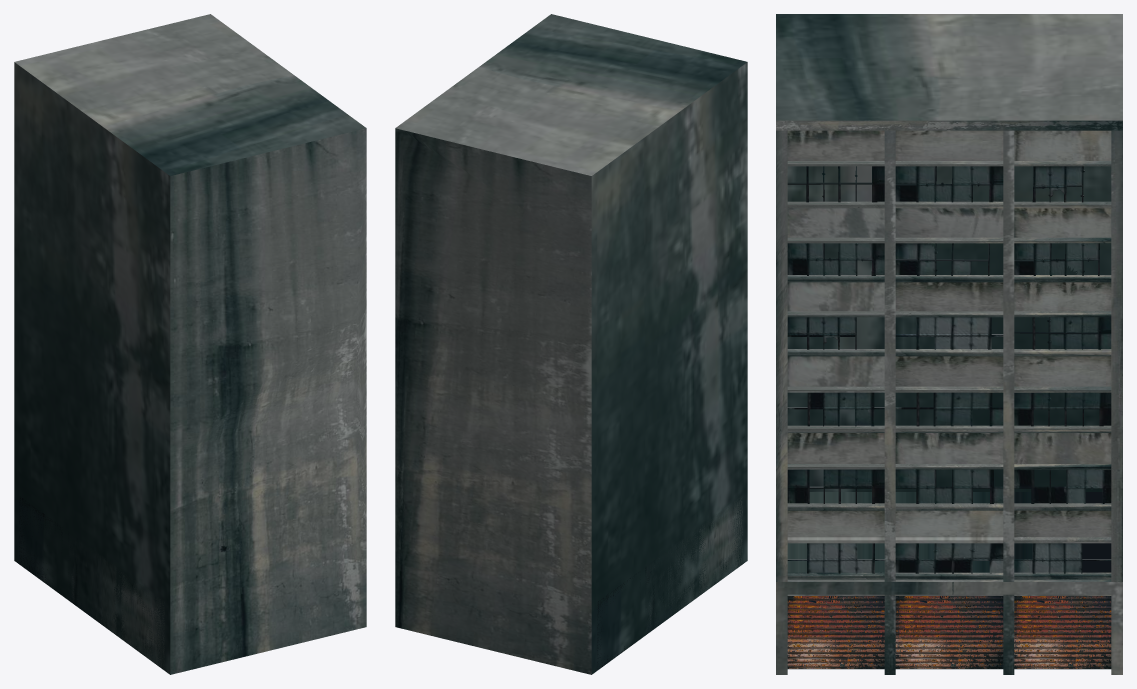
The model's file is abandoned_building.glb.
3 renders of one model, left to right at view 1: azimuth 30°, elevation 25°; view 2: azimuth 150°, elevation 25°; view 3: azimuth 270°, elevation 25°, orthographic. The views are drawn at different scales.
Parts seen in each view (by area): view 1: Cube_Material.002_0; view 2: Cube_Material.002_0; view 3: Cube_Material.002_0, 1_Door1_0.
Boxes of the visible parts, <box> form: Cube_Material.002_0: <box>14,14,366,674</box>; Cube_Material.002_0: <box>395,14,747,674</box>; Cube_Material.002_0: <box>776,14,1122,674</box>; 1_Door1_0: <box>787,596,1111,668</box>.
Bounding box in the file's own units: 3.49 × 8.46 × 4.8.
2 materials, 2 textured.
